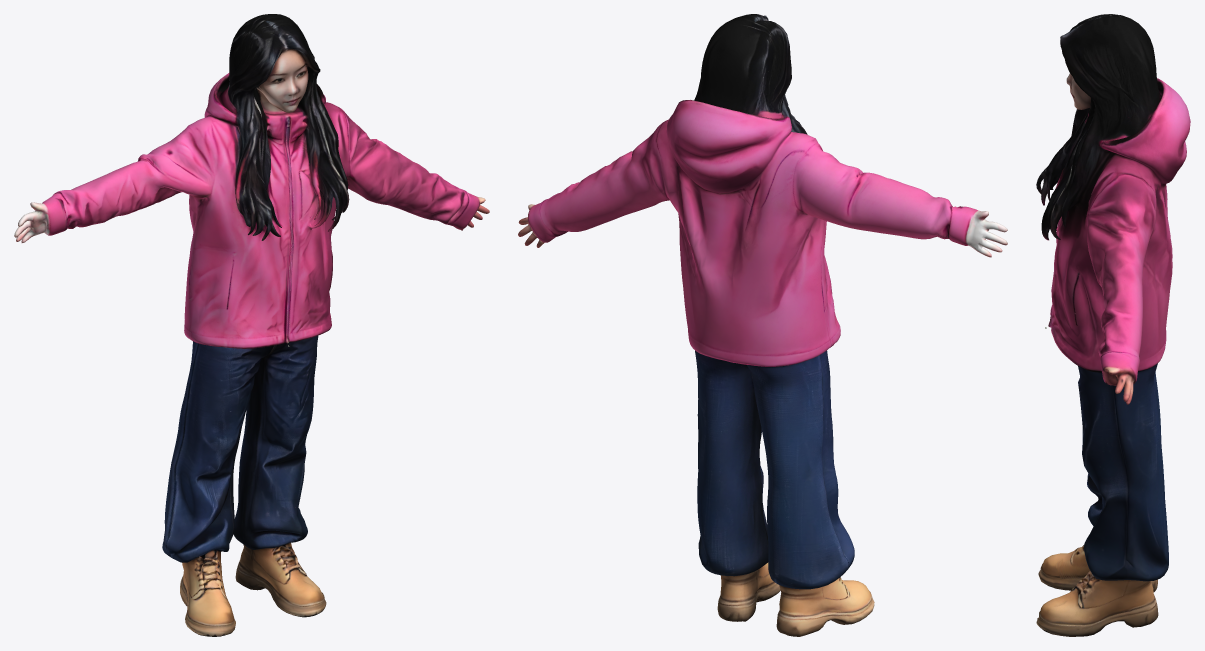
Rendered from character_new.glb.
3 renders of one model, left to right at view 1: azimuth 30°, elevation 25°; view 2: azimuth 150°, elevation 25°; view 3: azimuth 270°, elevation 25°, orthographic. The views are drawn at different scales.
Parts seen in each view (by area): view 1: quad; view 2: quad; view 3: quad.
Part boxes in pixels (<box>): quad: <box>14,14,489,636</box>; quad: <box>518,14,1007,636</box>; quad: <box>1036,14,1190,636</box>.
Bounding box in the file's own units: 1.63 × 1.9 × 0.4364.
1 material, 1 textured.
